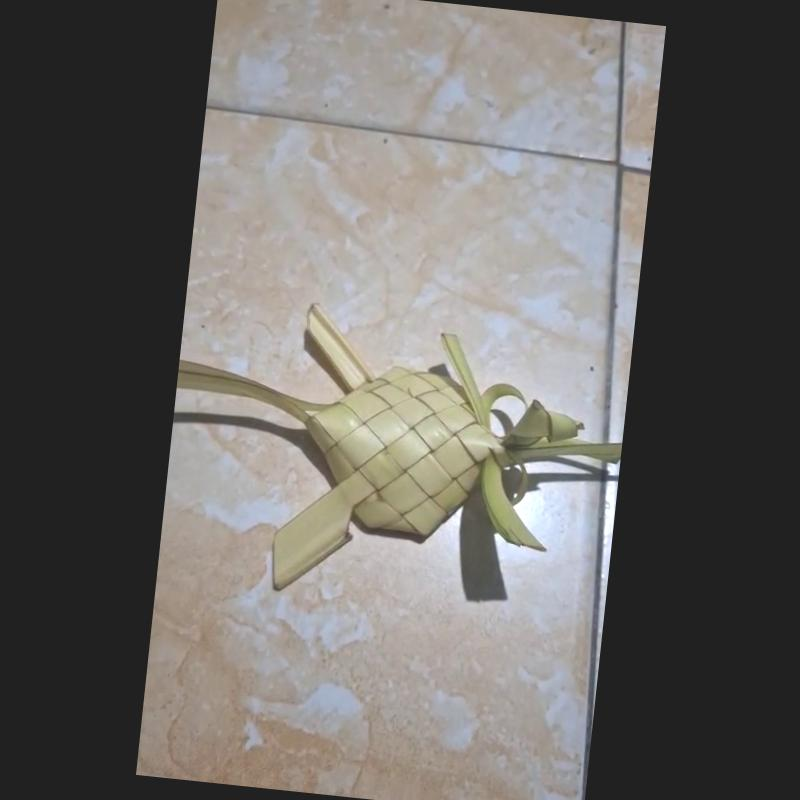Tipat Dampulan: (176, 298, 621, 586)
